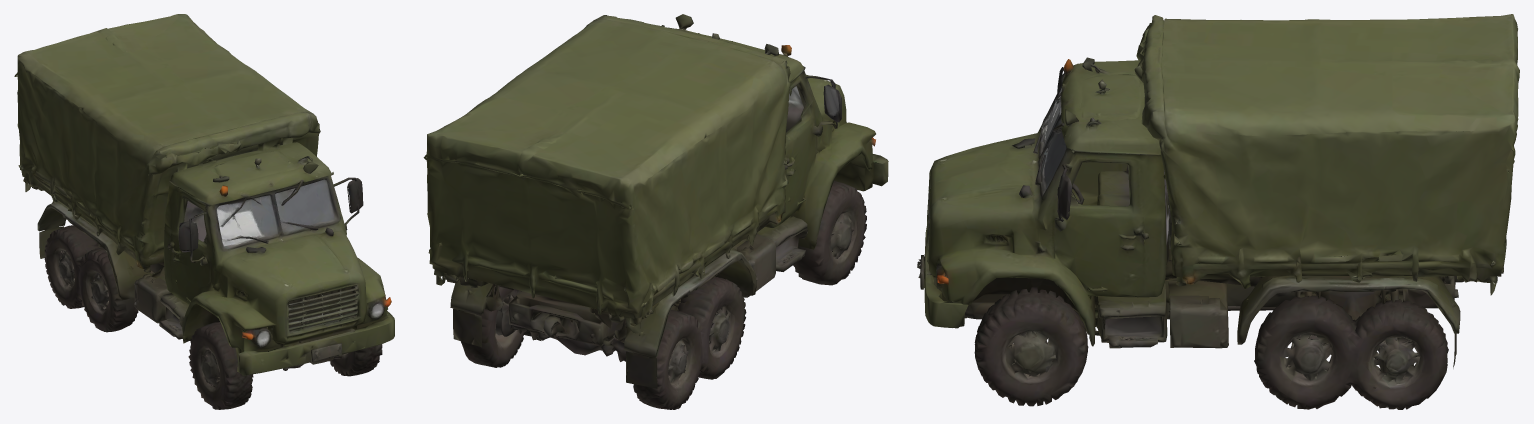
The model's file is truck.glb.
The picture shows the model from 3 angles, left to right: view 1: azimuth 30°, elevation 25°; view 2: azimuth 150°, elevation 25°; view 3: azimuth 270°, elevation 25°; orthographic projection. The views are drawn at different scales.
Parts seen in each view (by area): view 1: tripo_node_5fd93205-ee3c-445d-beac-82489d5acbf9; view 2: tripo_node_5fd93205-ee3c-445d-beac-82489d5acbf9; view 3: tripo_node_5fd93205-ee3c-445d-beac-82489d5acbf9.
Part boxes in pixels (x1,y1,x2,y2): tripo_node_5fd93205-ee3c-445d-beac-82489d5acbf9: (14,14,394,409); tripo_node_5fd93205-ee3c-445d-beac-82489d5acbf9: (423,14,888,409); tripo_node_5fd93205-ee3c-445d-beac-82489d5acbf9: (917,14,1519,409).
Size of the model in its own units: 0.4637 by 0.5454 by 1.
1 material, 1 textured.
